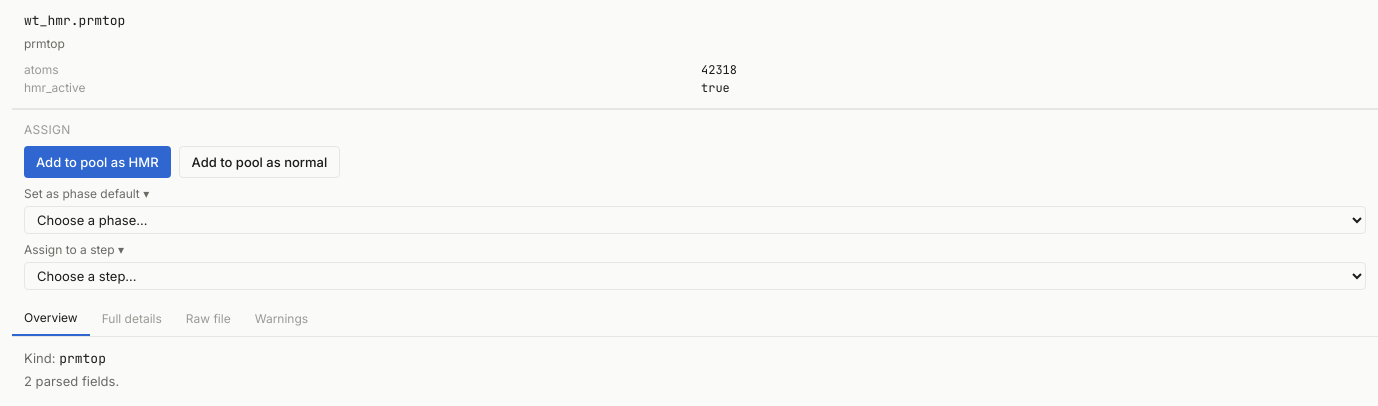
Scenario: Inspector › shows curated peek fields for a selected file, then lazy-loads the raw tab
Expected: the text "42318" is shown, [701, 62, 737, 78]
Click the tab "Raw file": coordinates (208, 319) [174, 302, 243, 336]
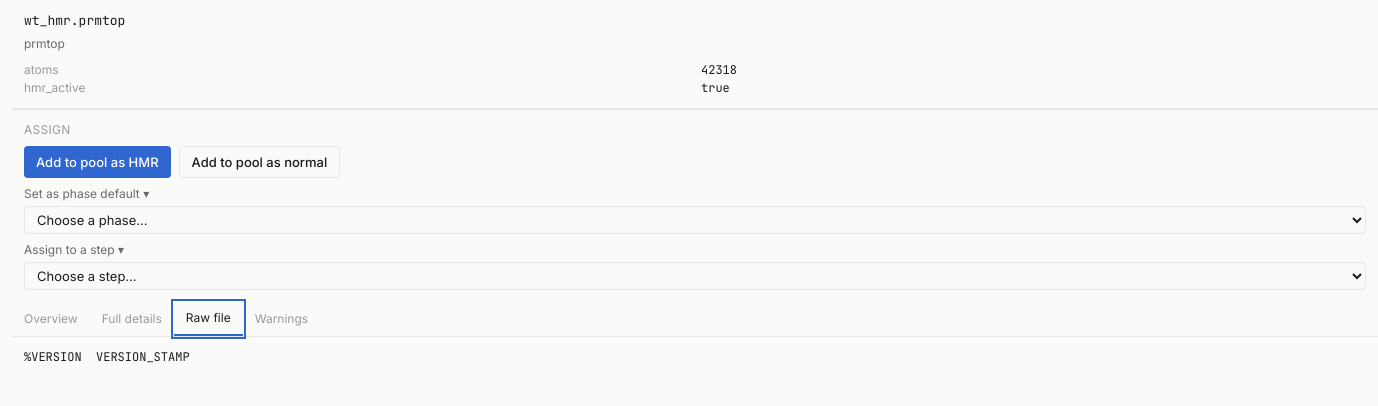
Expected: the text "%VERSION VERSION_STAMP" is shown, [24, 349, 190, 365]
